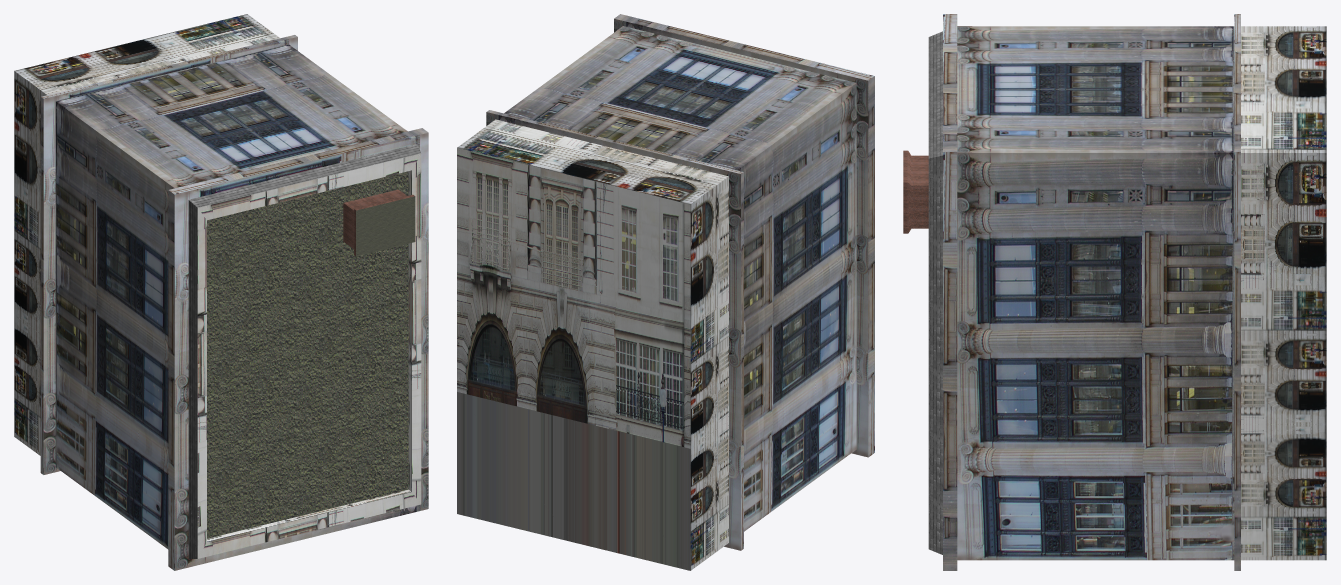
File: residential_building_03.obj
The picture shows the model from 3 angles, left to right: view 1: azimuth 30°, elevation 25°; view 2: azimuth 150°, elevation 25°; view 3: azimuth 270°, elevation 25°; orthographic projection. The views are drawn at different scales.
Parts seen in each view (by area): view 1: Shops_C_03; view 2: Shops_C_03; view 3: Shops_C_03.
Boxes of the visible parts, box(x1,y1,x2,y2) form: Shops_C_03: box(14, 14, 428, 570); Shops_C_03: box(457, 14, 874, 570); Shops_C_03: box(903, 14, 1326, 570).
Bounding box in the file's own units: 34.89 × 49.36 × 45.18.
5 materials, 5 textured.
